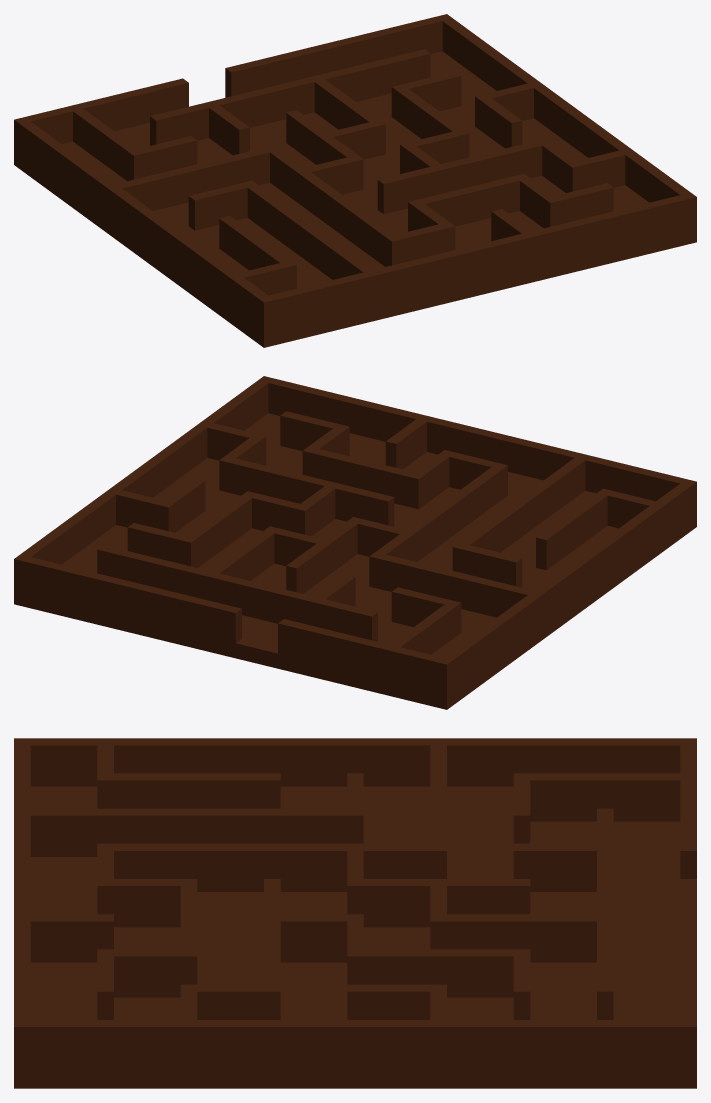
The model's file is Labyrinth8.obj.
3 renders of one model, top to bottom at view 1: azimuth 30°, elevation 25°; view 2: azimuth 150°, elevation 25°; view 3: azimuth 270°, elevation 25°, orthographic. The views are drawn at different scales.
Visible parts, largest first — view 1: aLabyrinth; view 2: aLabyrinth; view 3: aLabyrinth.
Boxes of the visible parts, left/top/right/bottom form: aLabyrinth: left=14, top=14, right=696, bottom=347; aLabyrinth: left=14, top=376, right=696, bottom=709; aLabyrinth: left=14, top=738, right=696, bottom=1088.
Bounding box in the file's own units: 30 × 3 × 30.
